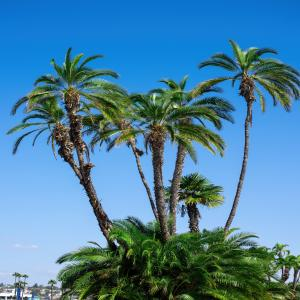palm tree: (6, 47, 133, 252), (194, 38, 299, 244)
